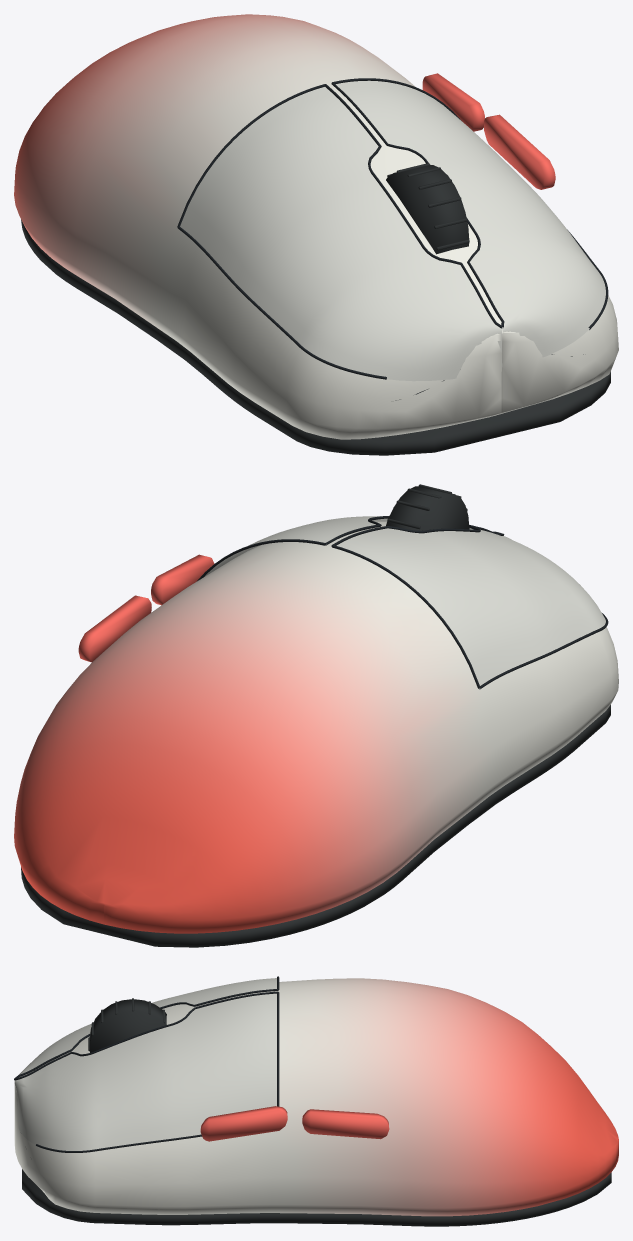
3 views of the same model, one above another, from view 1: azimuth 30°, elevation 25°; view 2: azimuth 150°, elevation 25°; view 3: azimuth 270°, elevation 25° (orthographic). The views are drawn at different scales.
Parts seen in each view (by area): view 1: Mouse body GPX continuous rounded back, Left click panel, Scroll wheel, Curved capsule left side button, Left click outer seam; view 2: Mouse body GPX continuous rounded back, Left click panel, Scroll wheel, Curved capsule left side button, Left click outer seam; view 3: Mouse body GPX continuous rounded back, Left click panel, Scroll wheel, Curved capsule left side button, Left click outer seam.
Boxes of the visible parts, bbox=[...] form: Mouse body GPX continuous rounded back: bbox=[14, 14, 618, 439]; Left click panel: bbox=[180, 80, 605, 381]; Scroll wheel: bbox=[21, 163, 610, 455]; Curved capsule left side button: bbox=[422, 73, 555, 189]; Left click outer seam: bbox=[177, 78, 608, 400]; Mouse body GPX continuous rounded back: bbox=[14, 521, 618, 933]; Left click panel: bbox=[204, 516, 605, 688]; Scroll wheel: bbox=[21, 484, 610, 947]; Curved capsule left side button: bbox=[78, 554, 214, 662]; Left click outer seam: bbox=[197, 515, 608, 689]; Mouse body GPX continuous rounded back: bbox=[14, 978, 618, 1216]; Left click panel: bbox=[14, 978, 276, 1150]; Scroll wheel: bbox=[22, 998, 611, 1226]; Curved capsule left side button: bbox=[200, 1106, 389, 1141]; Left click outer seam: bbox=[14, 976, 279, 1152].
Bounding box in the file's own units: 0.0635 × 0.04 × 0.125.
